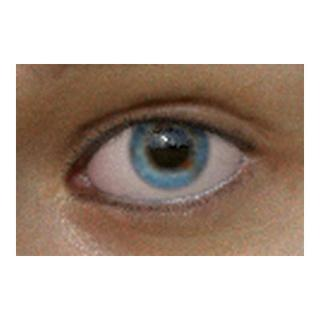pupil: (151, 130, 188, 168)
